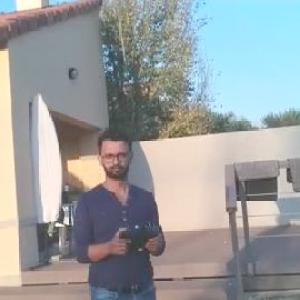follow: (70, 120, 173, 299)
